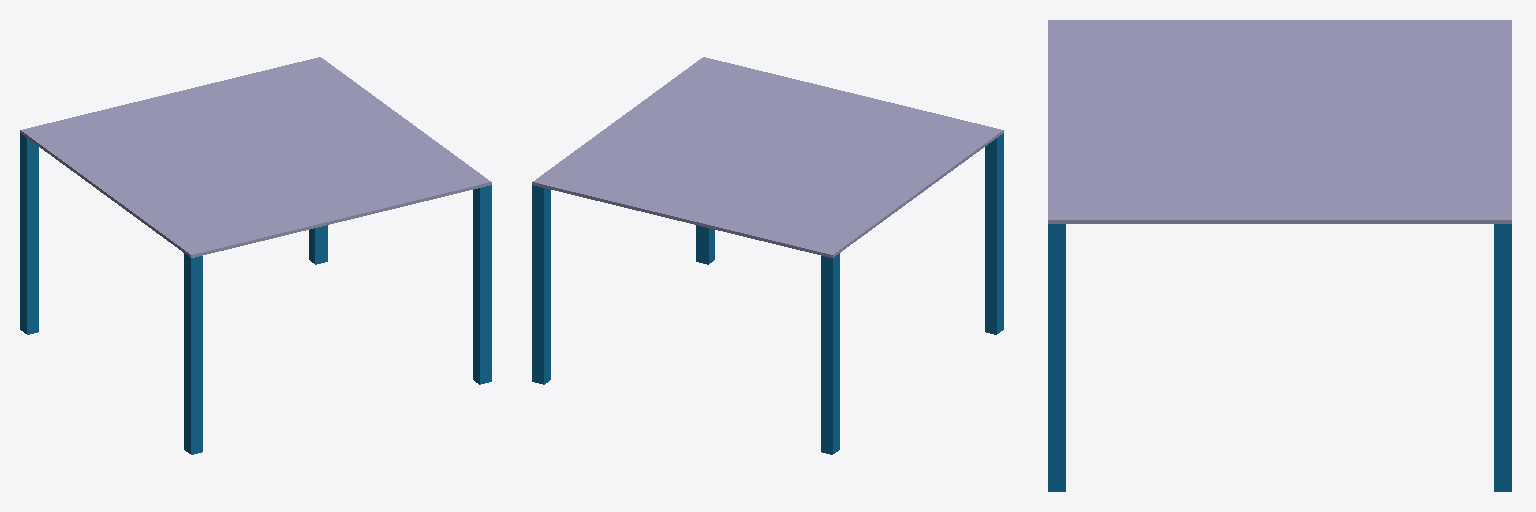
URDF robot description (battery_table):
<?xml version="1.0" ?>
<!-- =================================================================================== -->
<!-- |    This document was autogenerated by xacro from [local-path]/projects/personal_ws/src/battery_cell/battery_cell_description/urdf/battery_table_pybullet.xacro | -->
<!-- |    EDITING THIS FILE BY HAND IS NOT RECOMMENDED                                 | -->
<!-- =================================================================================== -->
<robot name="battery_table">
  <link name="table_base_link">
    <inertial>
      <origin rpy="0 0 0" xyz="0 0 0"/>
      <mass value="0.0001"/>
      <inertia ixx="0.000001" ixy="0" ixz="0" iyy="0.000001" iyz="0" izz="0.000001"/>
    </inertial>
  </link>
  <link name="table_leg1_link">
    <inertial>
      <origin rpy="0 0 0" xyz="0 0 0.47"/>
      <mass value="9.573825"/>
      <inertia ixx="0.707824795" ixy="0" ixz="0" iyy="0.707824795" iyz="0" izz="0.005744294999999999"/>
    </inertial>
    <visual>
      <origin rpy="0 0 0" xyz="0 0 0.47"/>
      <geometry>
        <box size="0.06 0.06 0.94"/>
      </geometry>
      <material name="">
        <color rgba="0.1176 0.5059 0.6902 1"/>
      </material>
    </visual>
    <collision>
      <origin rpy="0 0 0" xyz="0 0 0.47"/>
      <geometry>
        <box size="0.06 0.06 0.94"/>
      </geometry>
    </collision>
  </link>
  <joint name="table_base_to_leg1" type="fixed">
    <origin rpy="0 0 0" xyz="0.72 0.71 0"/>
    <parent link="table_base_link"/>
    <child link="table_leg1_link"/>
  </joint>
  <link name="table_leg2_link">
    <inertial>
      <origin rpy="0 0 0" xyz="0 0 0.47"/>
      <mass value="9.573825"/>
      <inertia ixx="0.707824795" ixy="0" ixz="0" iyy="0.707824795" iyz="0" izz="0.005744294999999999"/>
    </inertial>
    <visual>
      <origin rpy="0 0 0" xyz="0 0 0.47"/>
      <geometry>
        <box size="0.06 0.06 0.94"/>
      </geometry>
      <material name="">
        <color rgba="0.1176 0.5059 0.6902 1"/>
      </material>
    </visual>
    <collision>
      <origin rpy="0 0 0" xyz="0 0 0.47"/>
      <geometry>
        <box size="0.06 0.06 0.94"/>
      </geometry>
    </collision>
  </link>
  <joint name="table_base_to_leg2" type="fixed">
    <origin rpy="0 0 0" xyz="0.72 -0.71 0"/>
    <parent link="table_base_link"/>
    <child link="table_leg2_link"/>
  </joint>
  <link name="table_leg3_link">
    <inertial>
      <origin rpy="0 0 0" xyz="0 0 0.47"/>
      <mass value="9.573825"/>
      <inertia ixx="0.707824795" ixy="0" ixz="0" iyy="0.707824795" iyz="0" izz="0.005744294999999999"/>
    </inertial>
    <visual>
      <origin rpy="0 0 0" xyz="0 0 0.47"/>
      <geometry>
        <box size="0.06 0.06 0.94"/>
      </geometry>
      <material name="">
        <color rgba="0.1176 0.5059 0.6902 1"/>
      </material>
    </visual>
    <collision>
      <origin rpy="0 0 0" xyz="0 0 0.47"/>
      <geometry>
        <box size="0.06 0.06 0.94"/>
      </geometry>
    </collision>
  </link>
  <joint name="table_base_to_leg3" type="fixed">
    <origin rpy="0 0 0" xyz="-0.72 -0.71 0"/>
    <parent link="table_base_link"/>
    <child link="table_leg3_link"/>
  </joint>
  <link name="table_leg4_link">
    <inertial>
      <origin rpy="0 0 0" xyz="0 0 0.47"/>
      <mass value="9.573825"/>
      <inertia ixx="0.707824795" ixy="0" ixz="0" iyy="0.707824795" iyz="0" izz="0.005744294999999999"/>
    </inertial>
    <visual>
      <origin rpy="0 0 0" xyz="0 0 0.47"/>
      <geometry>
        <box size="0.06 0.06 0.94"/>
      </geometry>
      <material name="">
        <color rgba="0.1176 0.5059 0.6902 1"/>
      </material>
    </visual>
    <collision>
      <origin rpy="0 0 0" xyz="0 0 0.47"/>
      <geometry>
        <box size="0.06 0.06 0.94"/>
      </geometry>
    </collision>
  </link>
  <joint name="table_base_to_leg4" type="fixed">
    <origin rpy="0 0 0" xyz="-0.72 0.71 0"/>
    <parent link="table_base_link"/>
    <child link="table_leg4_link"/>
  </joint>
  <link name="table_tabletop_link">
    <inertial>
      <origin rpy="0 0 0" xyz="0 0 0.0075"/>
      <mass value="9.573825"/>
      <inertia ixx="47.774738203125" ixy="0" ixz="0" iyy="49.074538213124995" iyz="0" izz="96.83946249"/>
    </inertial>
    <visual>
      <origin rpy="0 0 0" xyz="0 0 0.0075"/>
      <geometry>
        <box size="1.5 1.48 0.015"/>
      </geometry>
      <material name="">
        <color rgba="0.6608 0.6608 0.7878 1"/>
      </material>
    </visual>
    <collision>
      <origin rpy="0 0 0" xyz="0 0 0.0075"/>
      <geometry>
        <box size="1.5 1.48 0.015"/>
      </geometry>
    </collision>
  </link>
  <joint name="table_base_to_tabletop" type="fixed">
    <origin rpy="0 0 0" xyz="0 0 0.94"/>
    <parent link="table_base_link"/>
    <child link="table_tabletop_link"/>
  </joint>
  <link concave="yes" name="table_can_hole">
    <inertial>
      <origin rpy="0 0 0" xyz="0 0 0"/>
      <mass value="0.0001"/>
      <inertia ixx="0.00000001" ixy="0" ixz="0" iyy="0.00000001" iyz="0" izz="0.00000001"/>
    </inertial>
    <visual concave="yes">
      <origin rpy="0 0 0" xyz="0 0 0"/>
      <geometry>
        <mesh filename="[local-path]/projects/personal_ws/src/battery_cell/battery_cell_description/meshes/Hole_60_big.STL" scale="0.001 0.001 0.001"/>
      </geometry>
      <material name="">
        <color rgba="0.6608 0.6608 0.7878 1"/>
      </material>
    </visual>
    <collision concave="yes">
      <origin rpy="0 0 0" xyz="0 0 0"/>
      <geometry>
        <mesh filename="[local-path]/projects/personal_ws/src/battery_cell/battery_cell_description/meshes/Hole_60_big.STL" scale="0.001 0.001 0.001"/>
      </geometry>
    </collision>
  </link>
  <joint name="table_tabletop_to_hole" type="fixed">
    <origin rpy="0 0 0" xyz="0.65 0.35 0.015"/>
    <parent link="table_tabletop_link"/>
    <child link="table_can_hole"/>
  </joint>
</robot>

--- Render facts (derived) ---
3 views of the same robot in one strip: view 1: azimuth 30°, elevation 25°; view 2: azimuth 150°, elevation 25°; view 3: azimuth 270°, elevation 25° (orthographic).
Robot: battery_table — 7 links, 6 joints (6 fixed); root link table_base_link; default pose: every joint at zero.
Visible links, largest first — view 1: table_tabletop_link, table_leg3_link, table_leg2_link, table_leg4_link, table_leg1_link; view 2: table_tabletop_link, table_leg4_link, table_leg1_link, table_leg3_link, table_leg2_link; view 3: table_tabletop_link, table_leg1_link, table_leg2_link.
Link boxes in pixels (x1,y1,x2,y2): table_tabletop_link: (20,57,491,257); table_leg3_link: (184,253,202,454); table_leg2_link: (473,185,491,384); table_leg4_link: (20,133,38,334); table_leg1_link: (309,225,327,264); table_tabletop_link: (532,57,1003,257); table_leg4_link: (821,253,839,454); table_leg1_link: (532,185,550,384); table_leg3_link: (985,133,1003,334); table_leg2_link: (696,225,714,264); table_tabletop_link: (1048,20,1511,223); table_leg1_link: (1494,224,1511,491); table_leg2_link: (1048,224,1065,491).
Bounding box of the posed robot: 1.5 × 1.48 × 0.955 m (x, y, z).
Geometry: only primitive shapes (box / cylinder / sphere) drawn; not drawn: 1 mesh visual (reference in a form the renderer does not follow).
